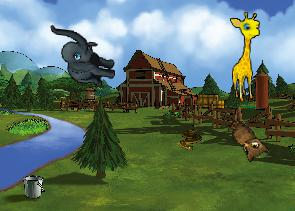elephant: (44, 24, 120, 88)
giraffe: (229, 11, 264, 102)
owl: (218, 117, 272, 167)
